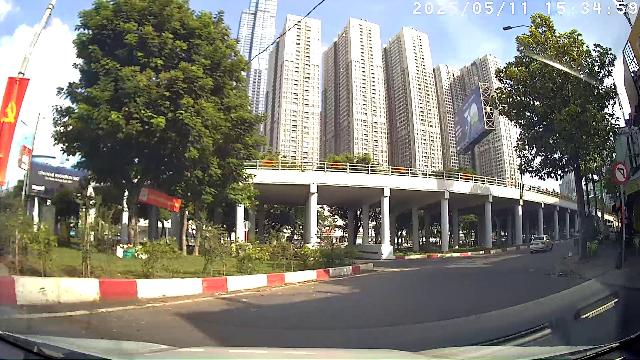123a-cam-re-trai: (614, 162, 628, 184)
